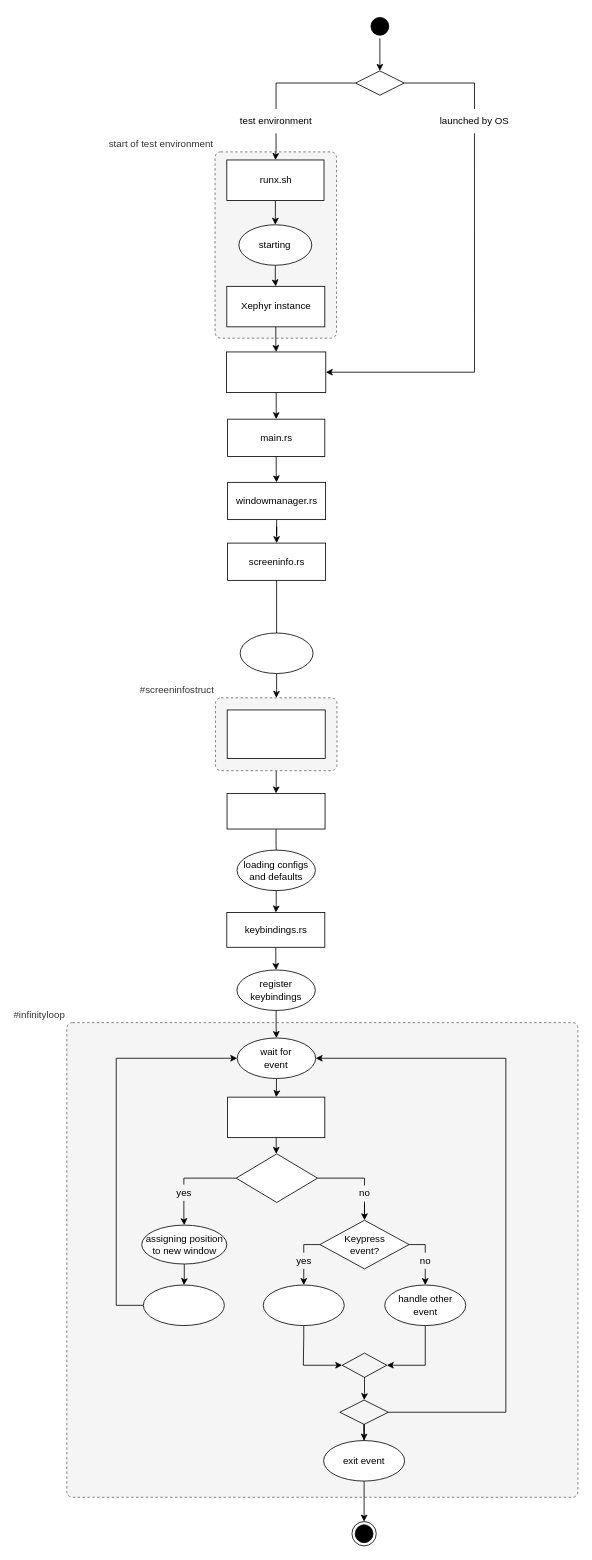
This 592x1560 diagram has some shape labels left out. The shapes that lost their labels are listed below. From the top down, each one's centre as x and y in pixels, then its label:
At point (276, 371): "xinitrc".
At point (276, 653): "creating once per monitor".
At point (275, 734): "workspace for displaying windows".
At point (275, 811): "config.rs".
At point (276, 1117): "any event".
At point (276, 1177): "Map request?".
At point (183, 1305): "remapping existing windows".
At point (303, 1305): "handle key event".
